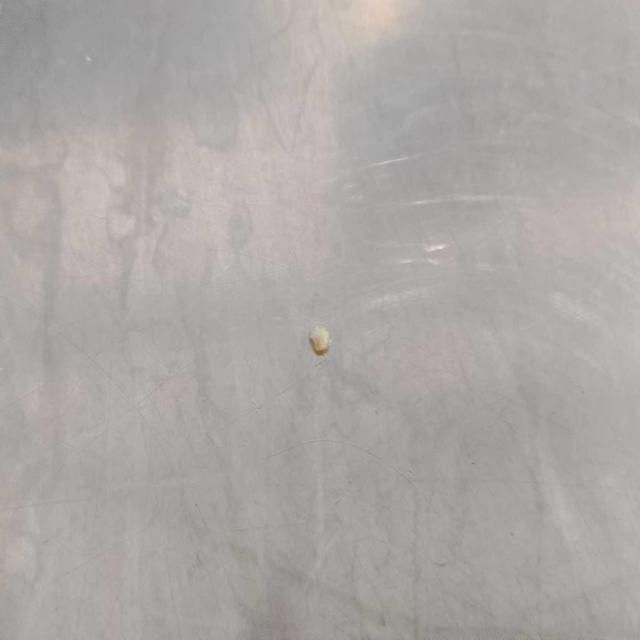General: (2, 3, 637, 637)
Infectious: (308, 324, 330, 355)
